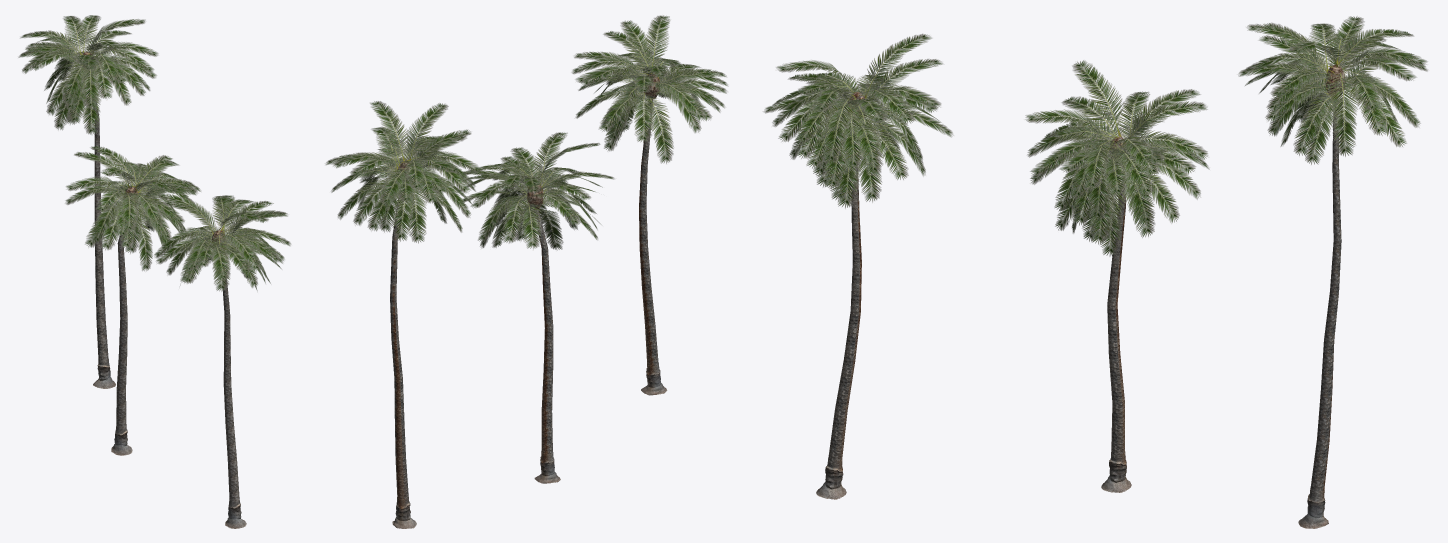
The model's file is palm_trees.glb.
3 renders of one model, left to right at view 1: azimuth 30°, elevation 25°; view 2: azimuth 150°, elevation 25°; view 3: azimuth 270°, elevation 25°, orthographic. The views are drawn at different scales.
Parts seen in each view (by area): view 1: PALMLOW3, PALMLOW2, PALMLOW; view 2: PALMLOW3, PALMLOW, PALMLOW2; view 3: PALMLOW2, PALMLOW3, PALMLOW.
Part boxes in pixels (<box>): PALMLOW3: <box>18,15,158,388</box>; PALMLOW2: <box>65,145,200,455</box>; PALMLOW: <box>154,193,291,528</box>; PALMLOW3: <box>325,101,482,528</box>; PALMLOW: <box>571,15,728,395</box>; PALMLOW2: <box>457,132,614,483</box>; PALMLOW2: <box>1025,60,1209,492</box>; PALMLOW3: <box>1238,16,1427,528</box>; PALMLOW: <box>763,33,953,499</box>.
Bounding box in the file's own units: 5.22 × 11.08 × 13.68.
3 materials, 3 textured.
